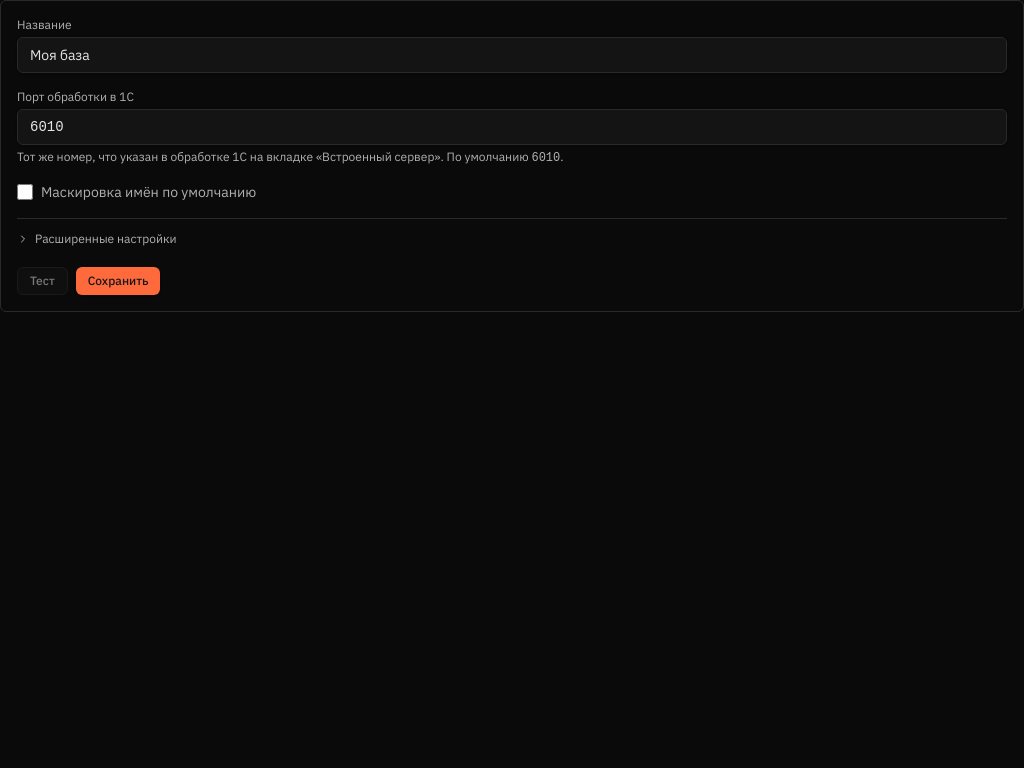
Test case: MCPConnectionForm › показывает ошибку 'Для прокси-подключения укажите профиль' если канал пустой
The width and height of the screenshot is (1024, 768).
Click the button "Расширенные настройки".
click(97, 239)  # box [17,231,177,247]
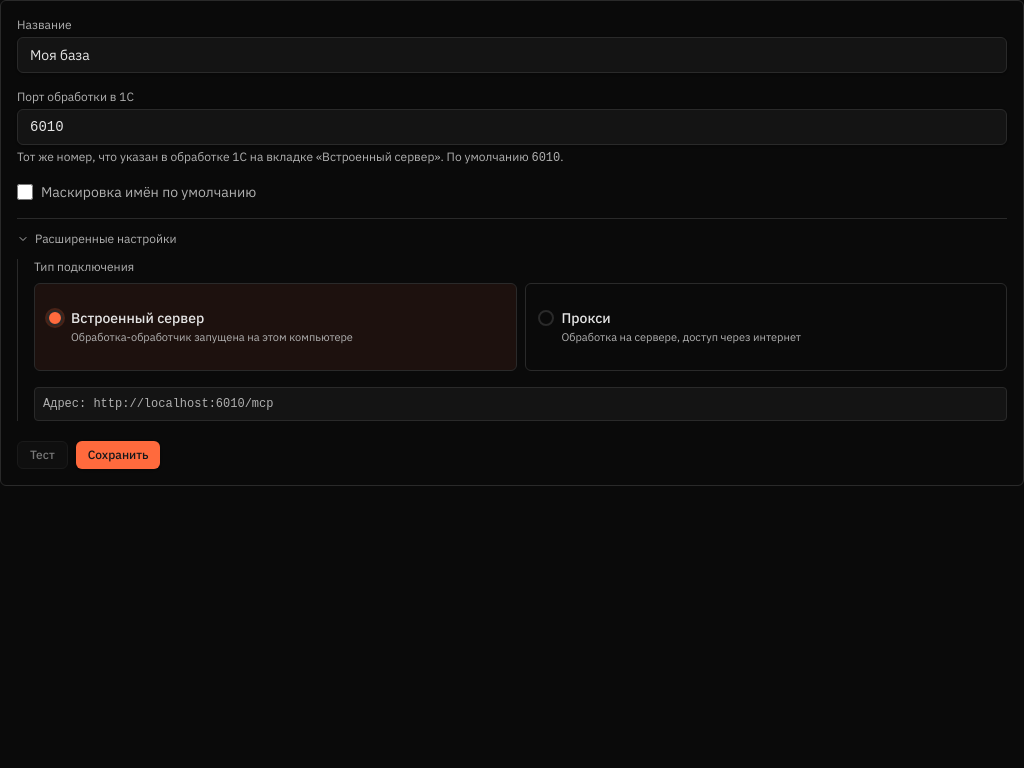
Click the radio button with test id "kind-proxy".
click(586, 318)  # box [524,283,1007,371]
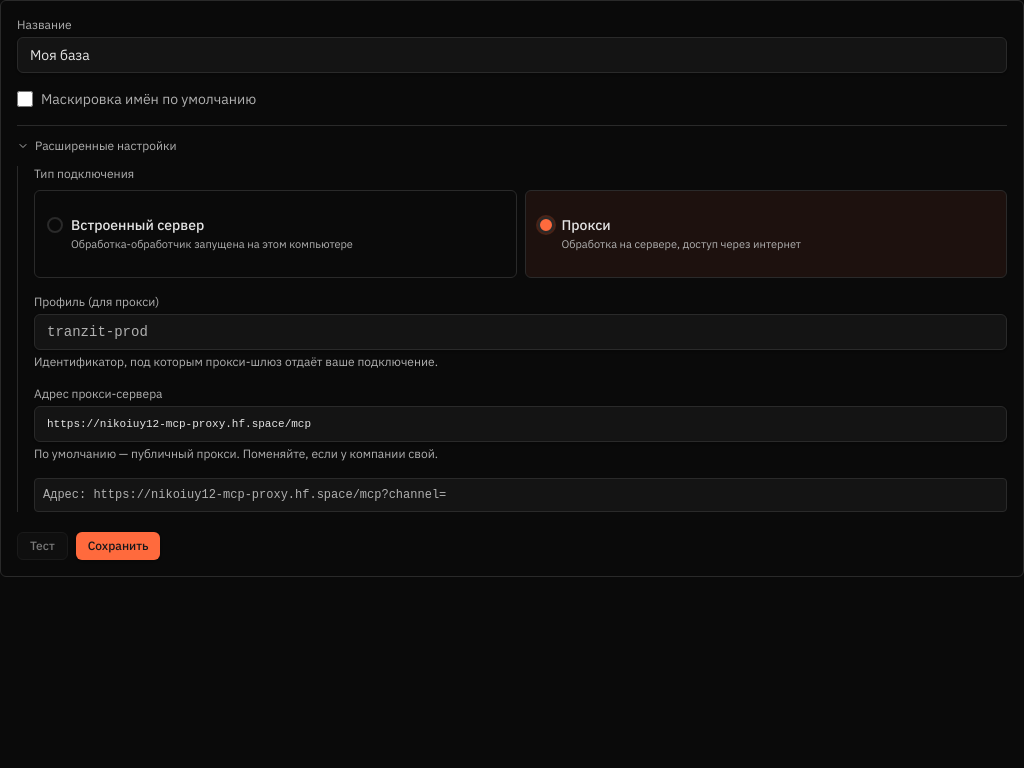
Click the button "Сохранить".
click(118, 546)  # box [76,532,160,560]
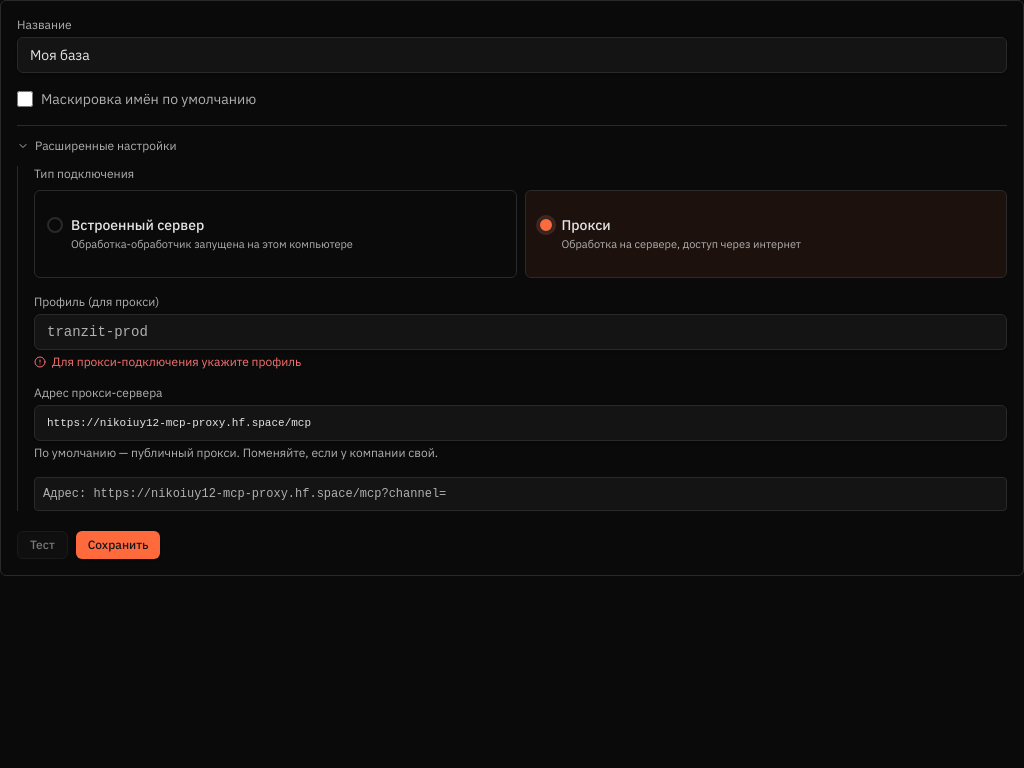
Now the text "Для прокси-подключения укажите профиль" is shown, box [52,354,301,369]
